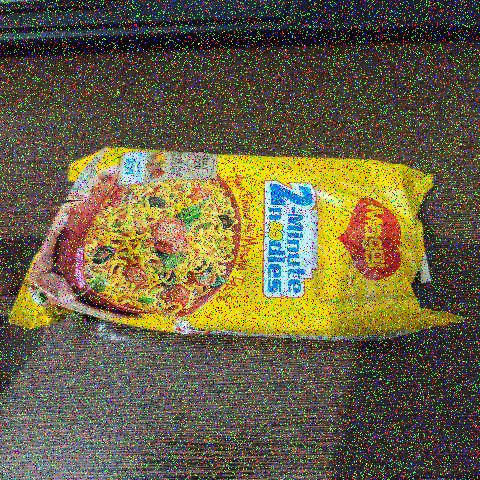maggi: (20, 131, 461, 378)
